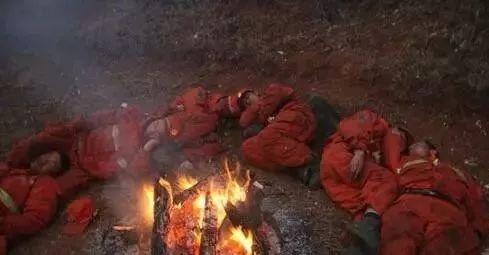fire: (141, 161, 258, 253)
